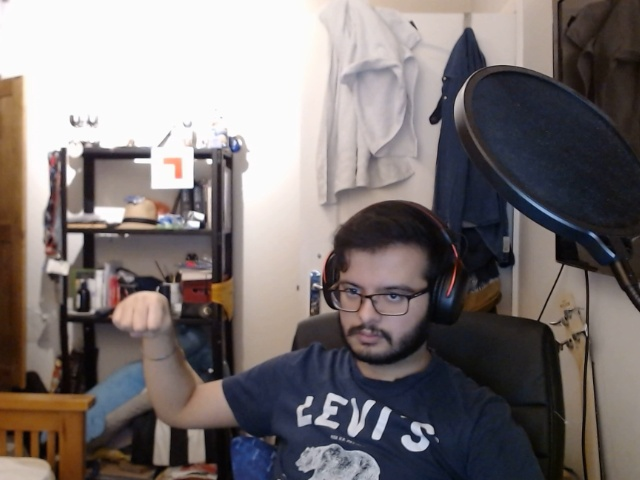Yes: (105, 285, 185, 357)
